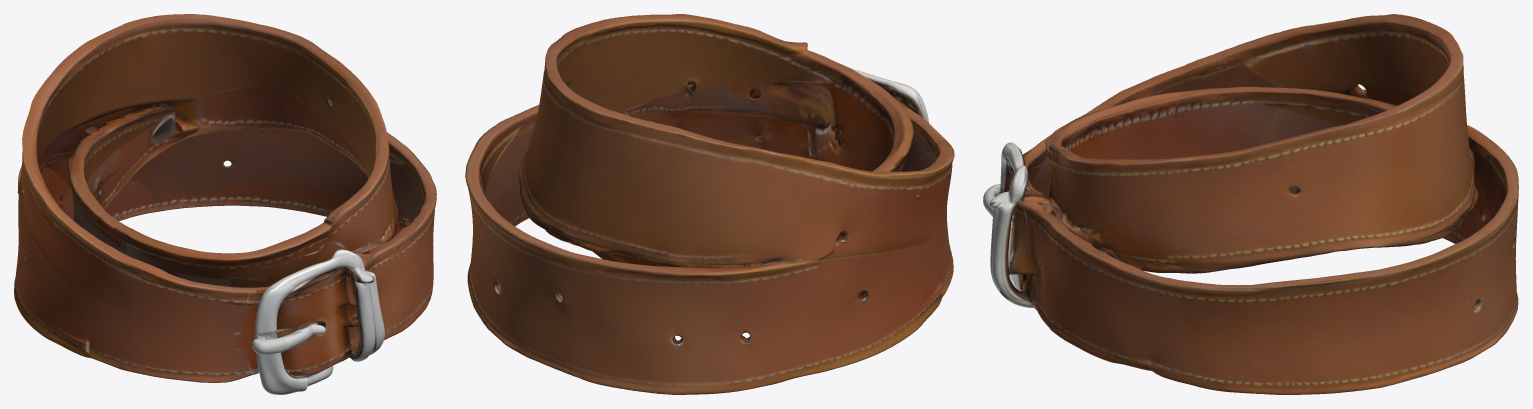
File: belt.glb
3 renders of one model, left to right at view 1: azimuth 30°, elevation 25°; view 2: azimuth 150°, elevation 25°; view 3: azimuth 270°, elevation 25°, orthographic. The views are drawn at different scales.
Size of the model in its own units: 59109 by 34440 by 65586.
1 material, 1 textured.
